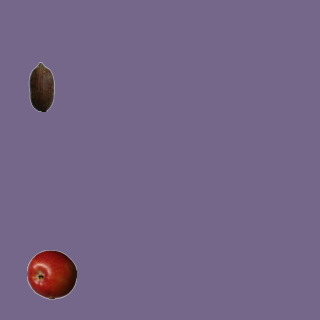Apple Braeburn: (26, 249, 76, 299)
Nut Pecan: (16, 61, 66, 111)
